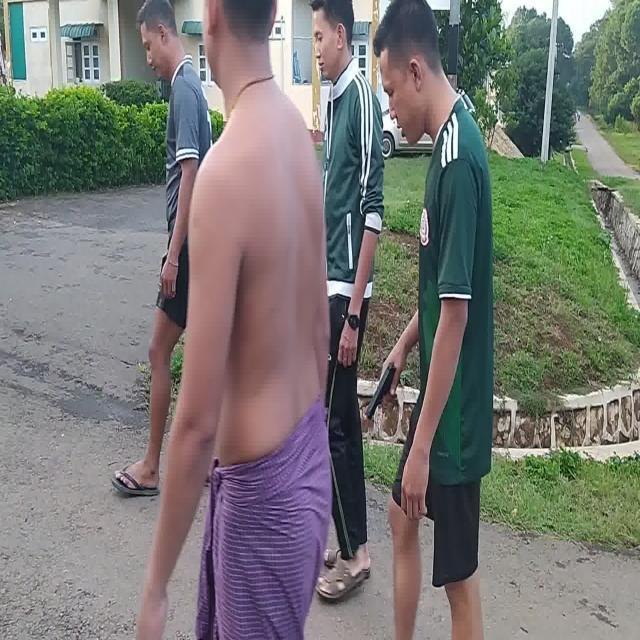gun: (366, 363, 396, 423)
